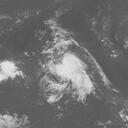cyclone: (40, 23, 104, 105)
